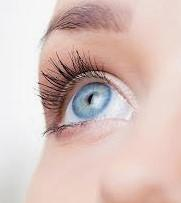eye: (73, 82, 111, 118)
